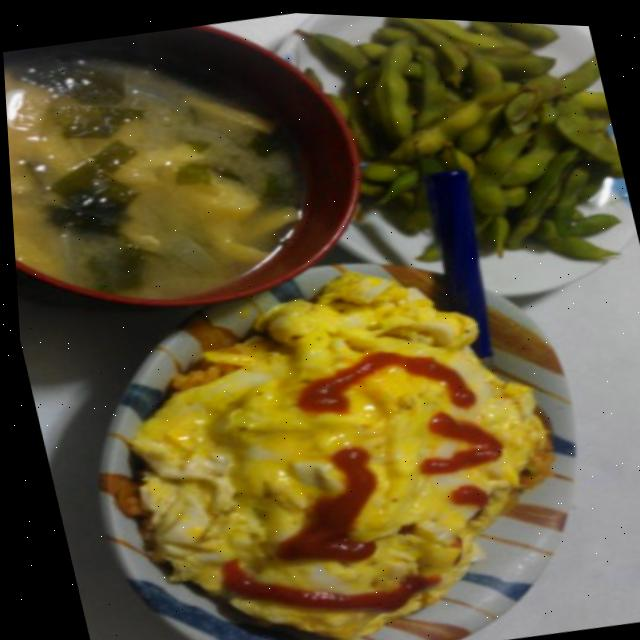汤锅炖物: (0, 0, 373, 365)
